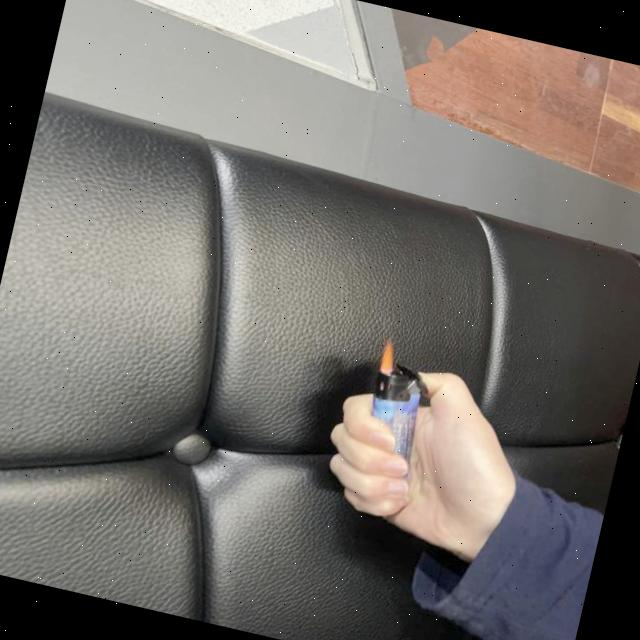fire: (374, 337, 400, 378)
